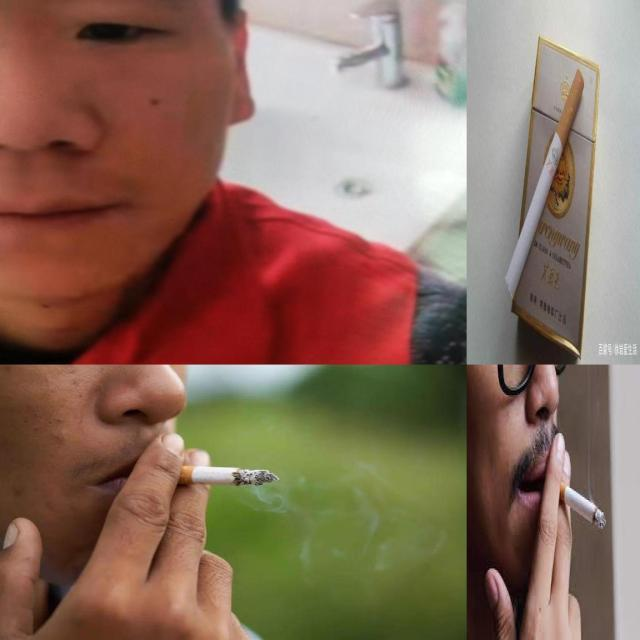smoking: (505, 68, 585, 299), (133, 463, 280, 486), (546, 474, 606, 530)
